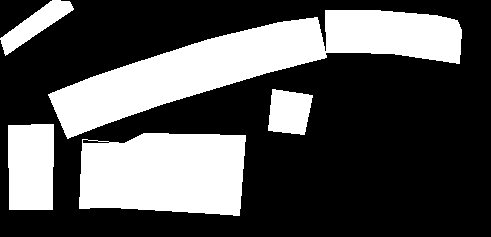parkingspot: (48, 17, 326, 138), (79, 133, 245, 215), (325, 10, 461, 63), (0, 0, 73, 55), (8, 124, 53, 209), (268, 89, 312, 134)
